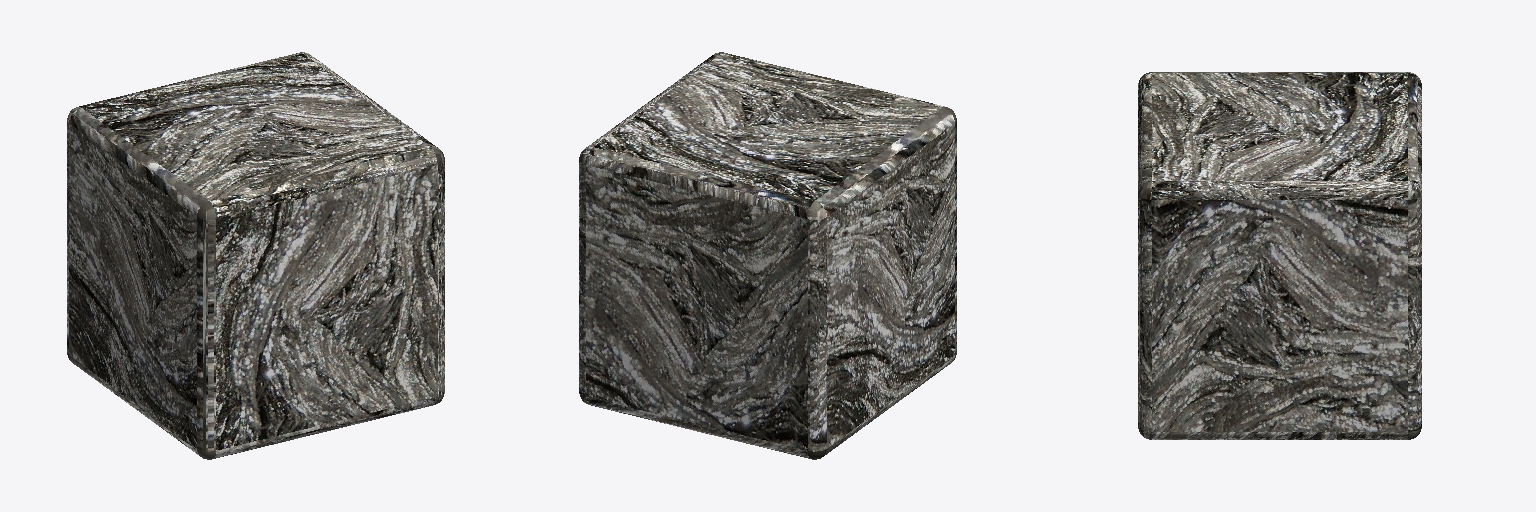
The picture shows the model from 3 angles: view 1: azimuth 30°, elevation 25°; view 2: azimuth 150°, elevation 25°; view 3: azimuth 270°, elevation 25°; orthographic projection.
Parts seen in each view (by area): view 1: Cube; view 2: Cube; view 3: Cube.
Part boxes in pixels (x1,y1,x2,y2): Cube: (67,52,444,459); Cube: (579,52,956,459); Cube: (1138,72,1421,439).
Size of the model in its own units: 2 by 2 by 2.
1 materials, 1 textured.